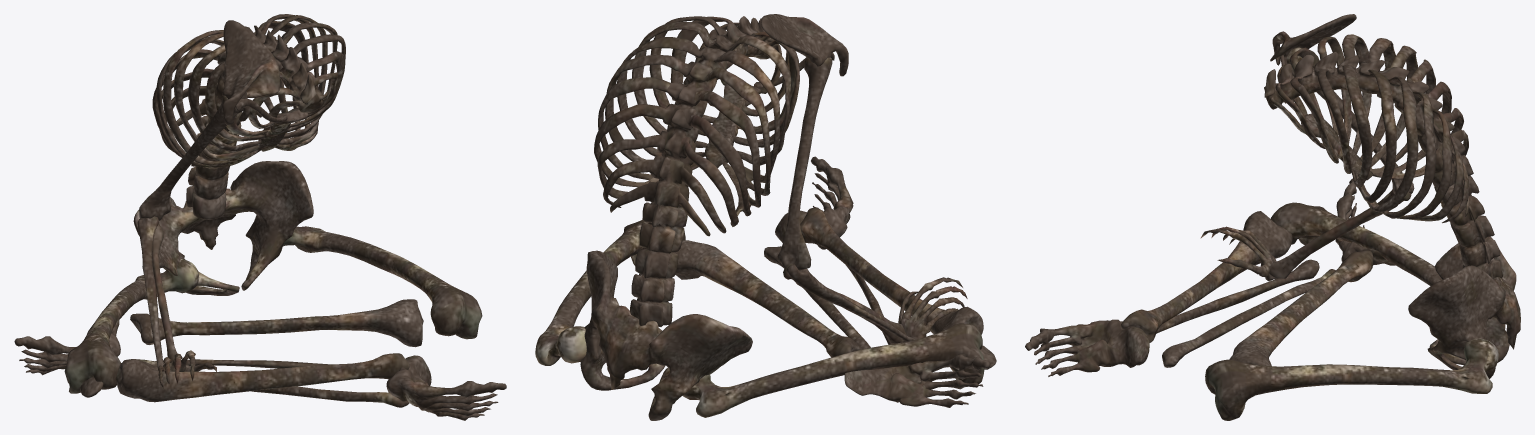
The model's file is SM_Skeleton_07.glb.
The picture shows the model from 3 angles, left to right: view 1: azimuth 30°, elevation 25°; view 2: azimuth 150°, elevation 25°; view 3: azimuth 270°, elevation 25°; orthographic projection. The views are drawn at different scales.
Parts seen in each view (by area): view 1: SM_Skeleton_07; view 2: SM_Skeleton_07; view 3: SM_Skeleton_07.
Part boxes in pixels (bbox=[...]): SM_Skeleton_07: bbox=[14, 14, 506, 420]; SM_Skeleton_07: bbox=[535, 14, 996, 420]; SM_Skeleton_07: bbox=[1025, 14, 1520, 420].
Size of the model in its own units: 0.8508 by 0.6709 by 0.9019.
Materials: 1 (1 with a texture image).
